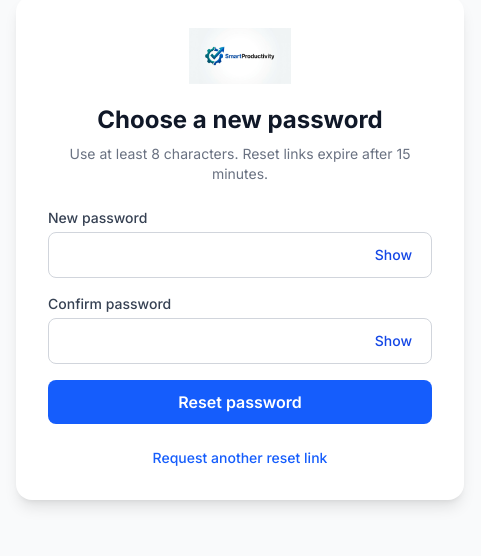
password recovery › keeps server reset-link errors visible with a recovery action
Type "GoodPassword123!" into the password field labelled "New password" at (240, 255), box [48, 232, 432, 278]
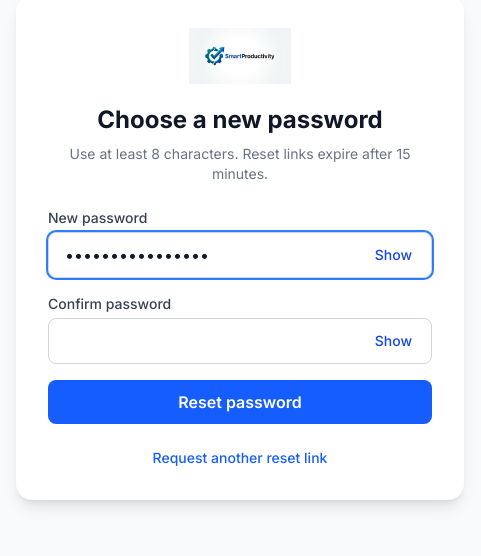
Type "GoodPassword123!" into the password field labelled "Confirm password" at (240, 341), box [48, 318, 432, 364]
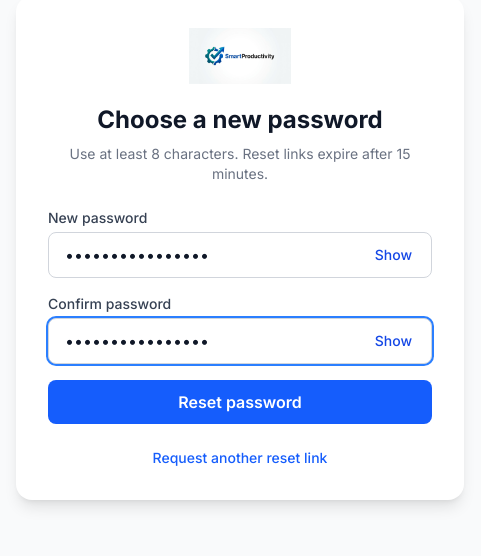
Click the button "Reset password" at (240, 402), box [48, 380, 432, 424]
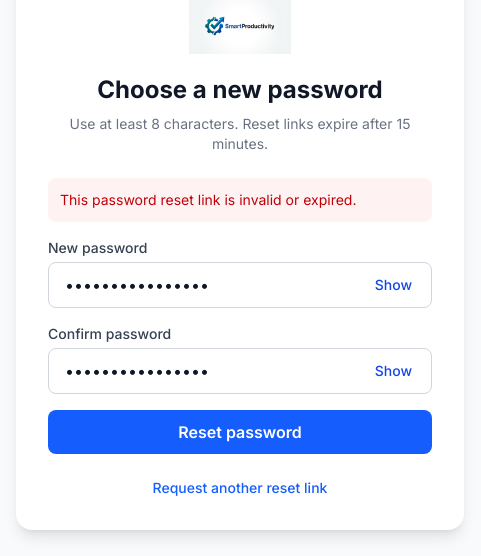
Expected: the message shows "invalid or expired", [60, 191, 356, 208]
